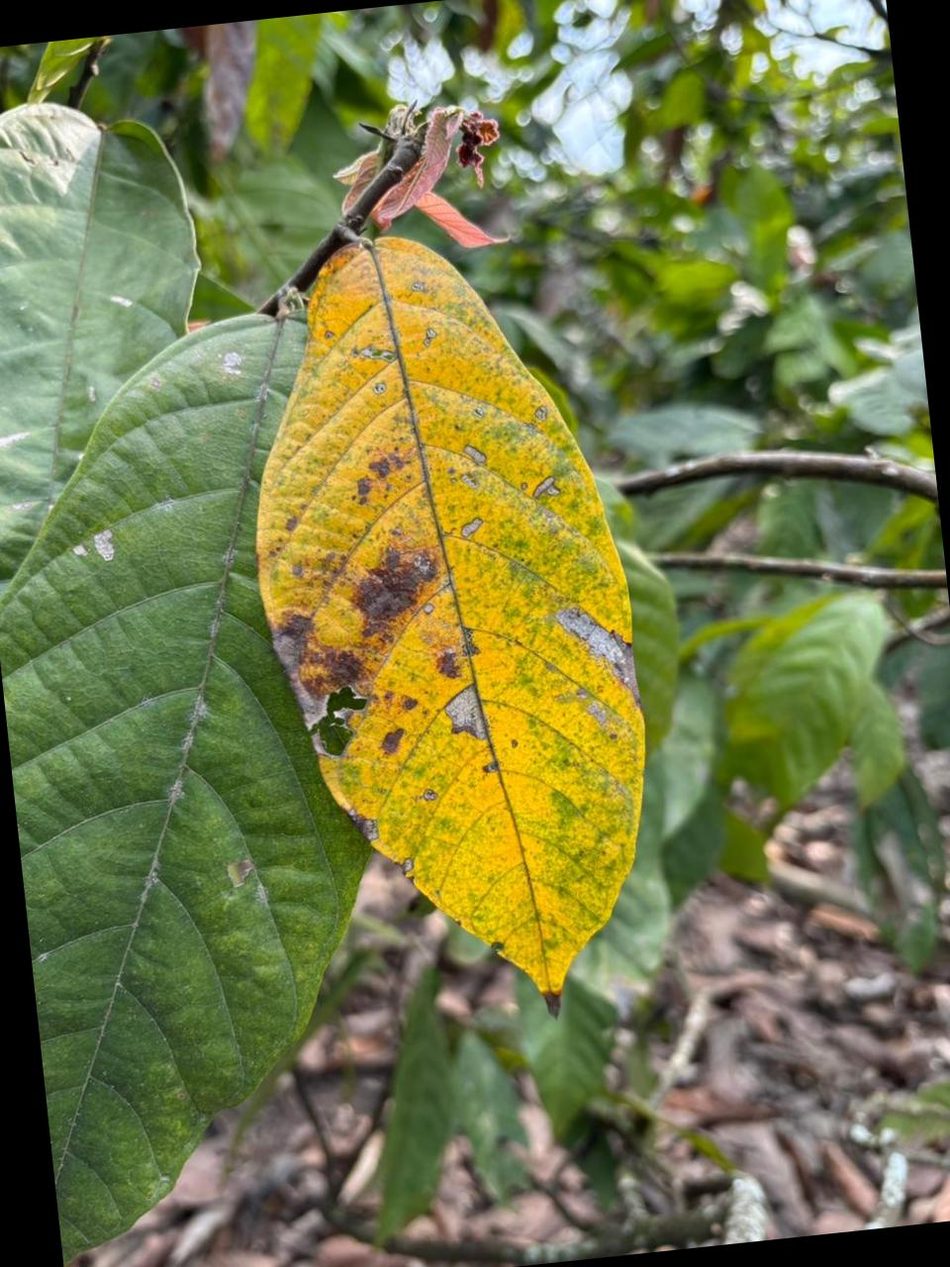Fosforo: (257, 237, 645, 1008)
